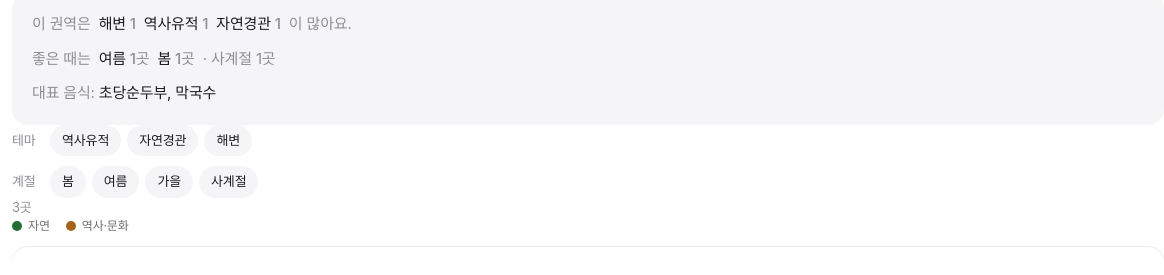
it: RegionExplorer › 조건 지우기를 누르면 전부 돌아온다
This screenshot has width=1164, height=275.
Step 1. Click the button "해변" → (228, 140), box [204,124,252,156]
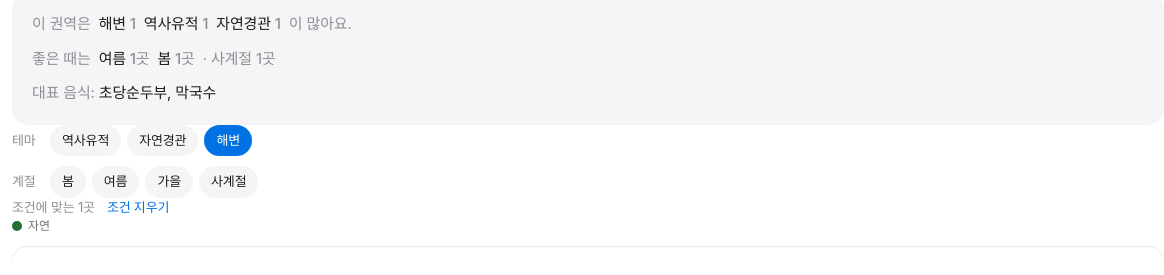
Step 2. Click the button "조건 지우기" → (138, 207), box [107,198,169,217]
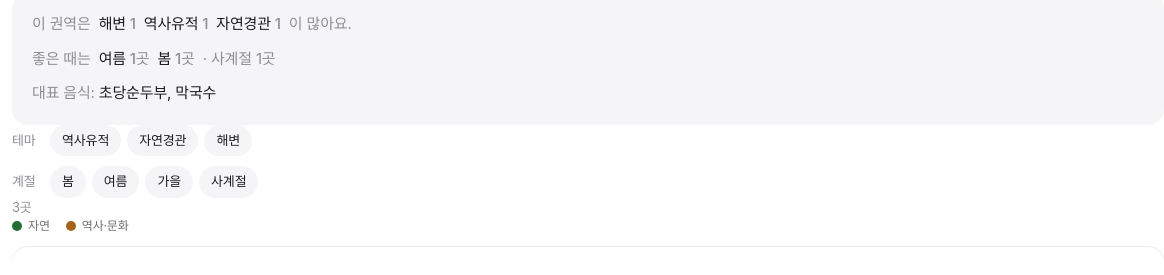
Check: the button "조건 지우기" is gone
